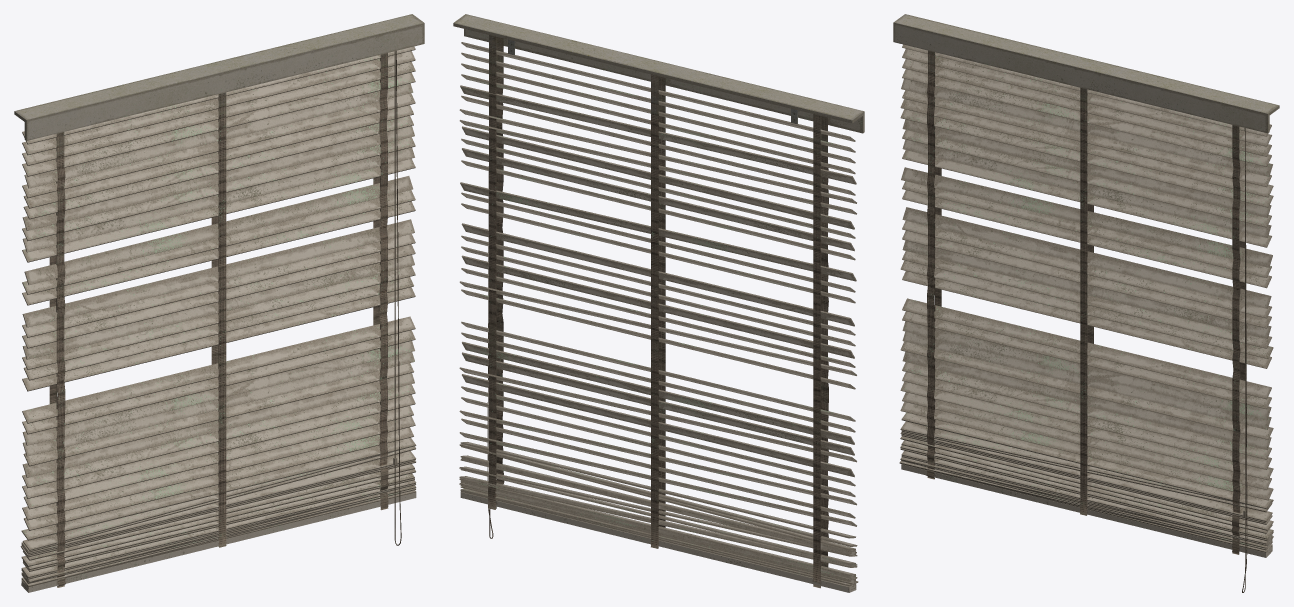
The model's file is JalousieE.fbx.
3 renders of one model, left to right at view 1: azimuth 30°, elevation 25°; view 2: azimuth 150°, elevation 25°; view 3: azimuth 330°, elevation 25°, orthographic. The views are drawn at different scales.
Visible parts, largest first — view 1: JalousieE_LOD0; view 2: JalousieE_LOD0; view 3: JalousieE_LOD0.
Part boxes in pixels (x1=…): JalousieE_LOD0: x1=14, y1=14, x2=424, y2=592; JalousieE_LOD0: x1=453, y1=14, x2=864, y2=592; JalousieE_LOD0: x1=893, y1=14, x2=1279, y2=592.
Size of what is drawn, in the model's own units: 130 by 161 by 7.85.
